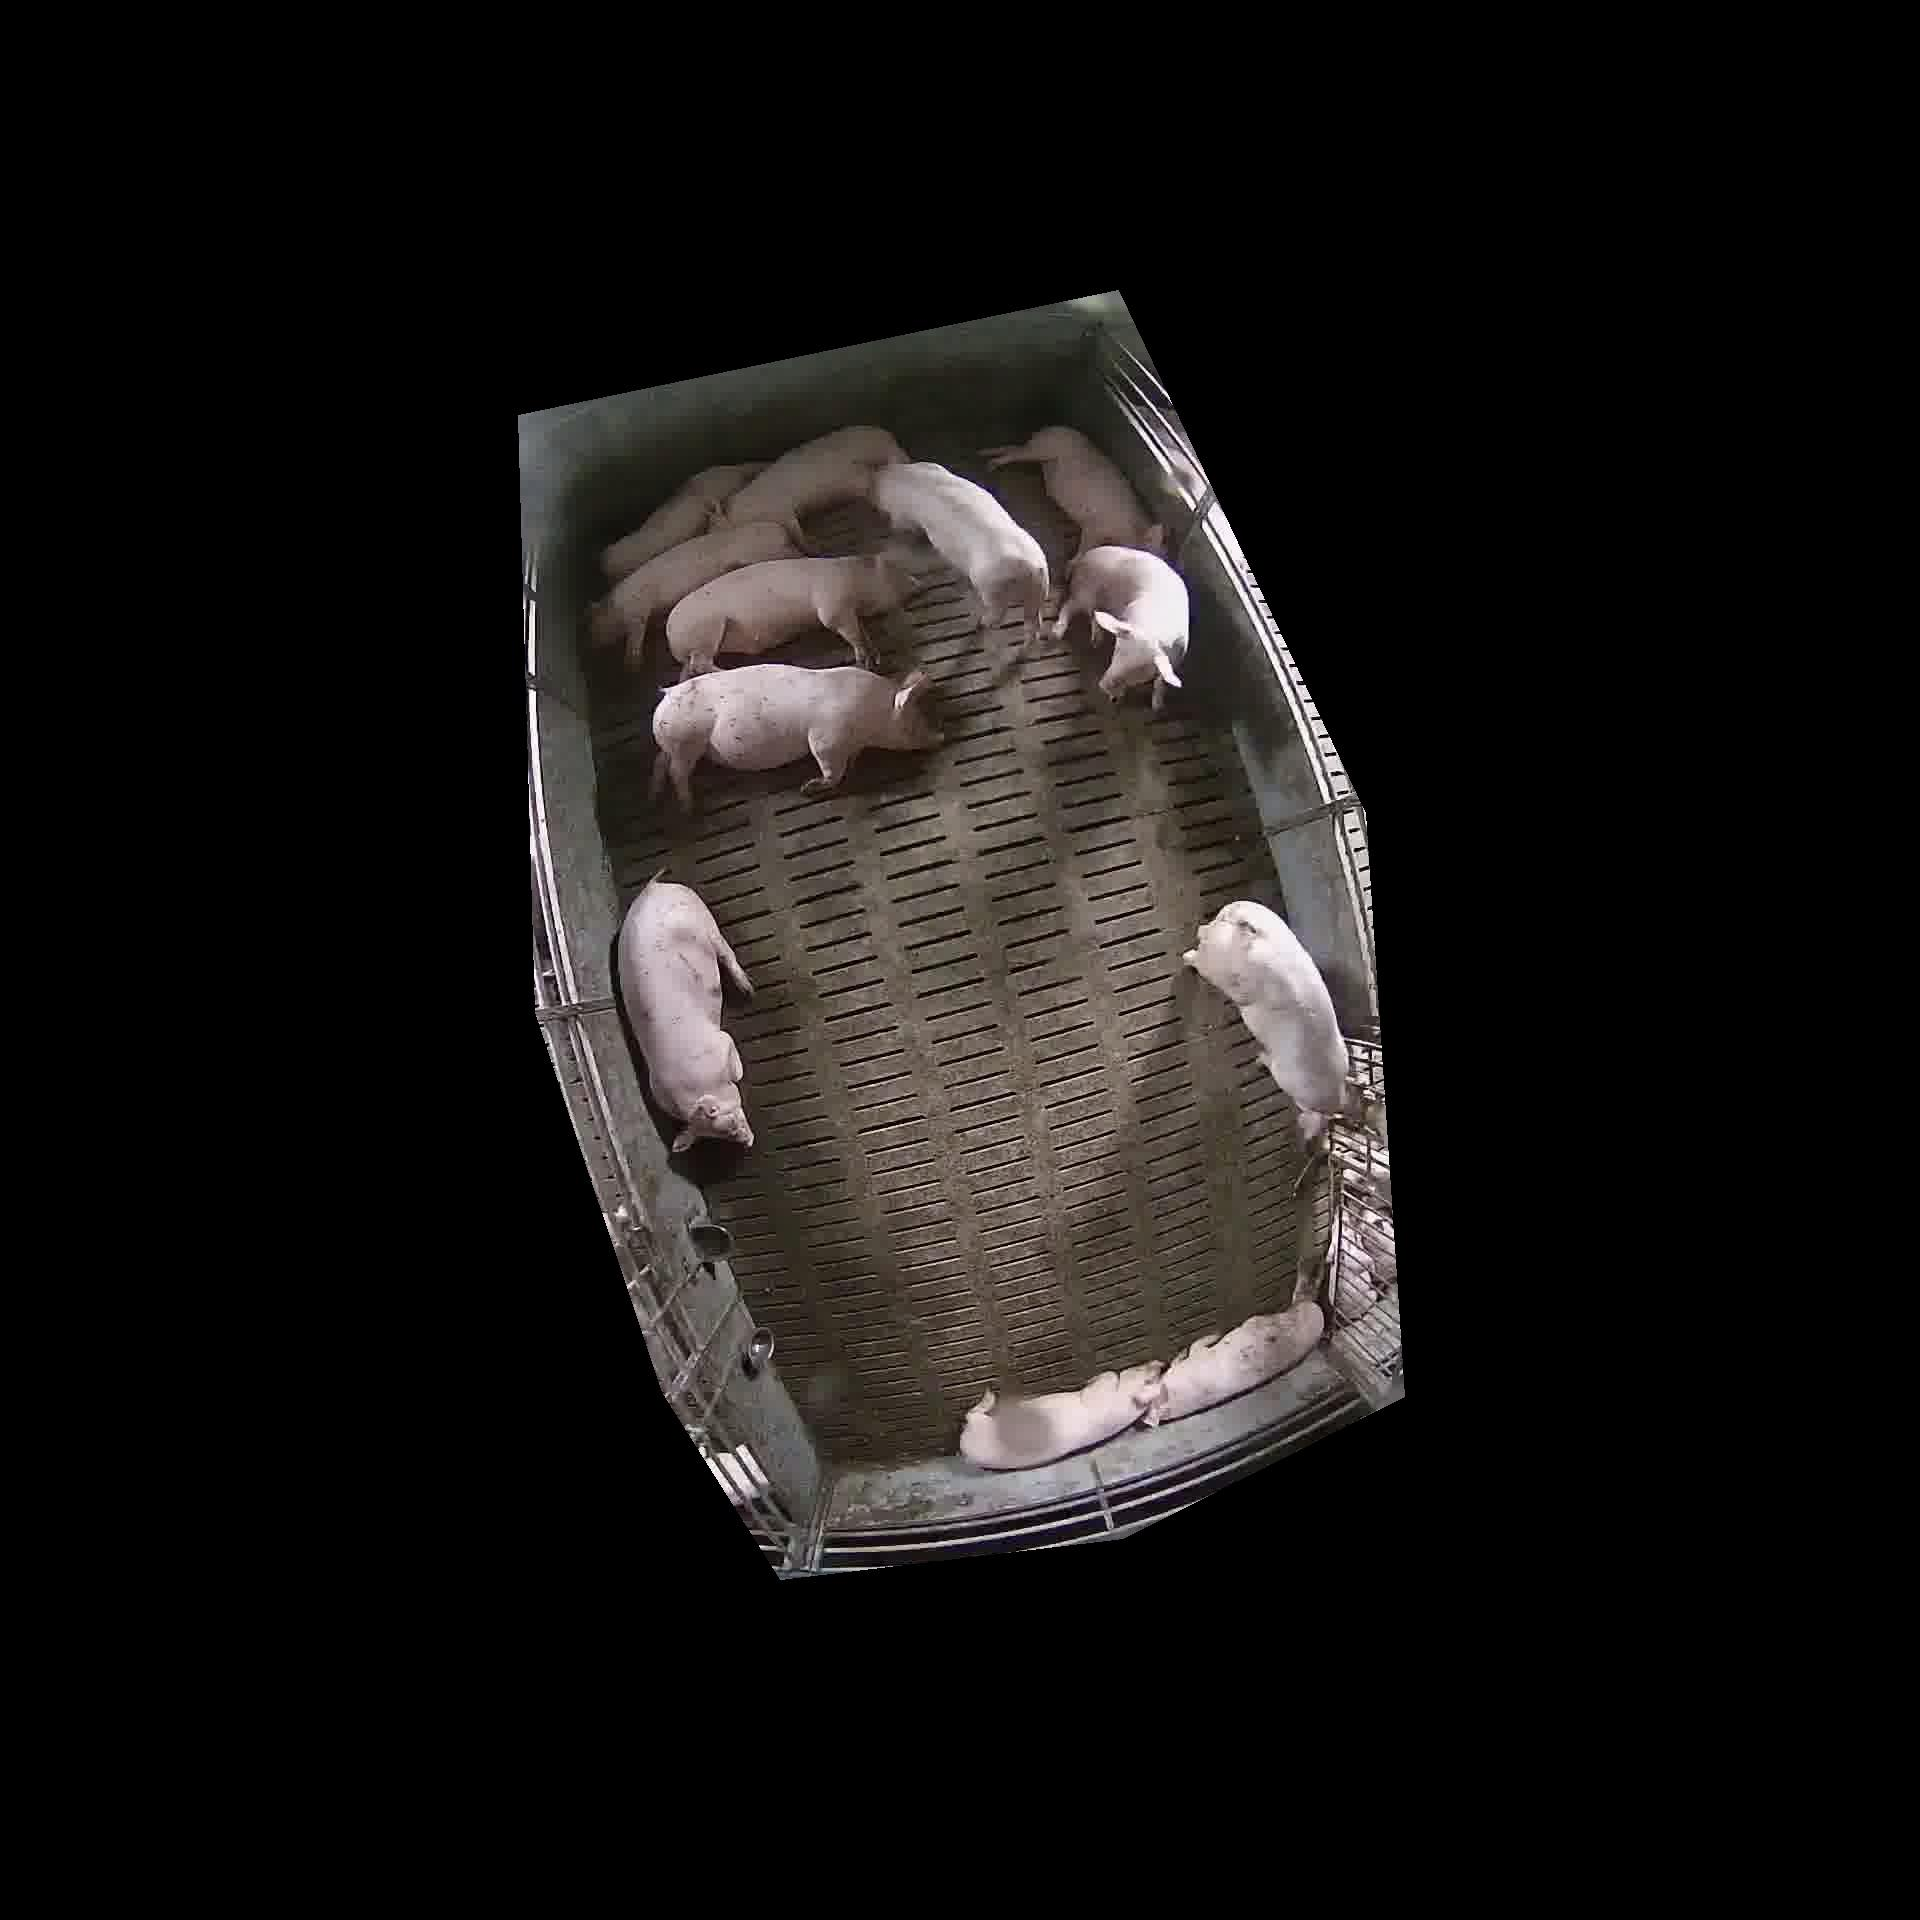pig: (652, 665, 942, 811), (1183, 902, 1356, 1141), (617, 879, 753, 1152), (870, 462, 1048, 644), (589, 522, 798, 666), (666, 556, 914, 677), (983, 425, 1164, 554), (1053, 547, 1189, 709), (1146, 1301, 1324, 1424), (960, 1363, 1162, 1468), (723, 425, 905, 542), (600, 464, 761, 582)
